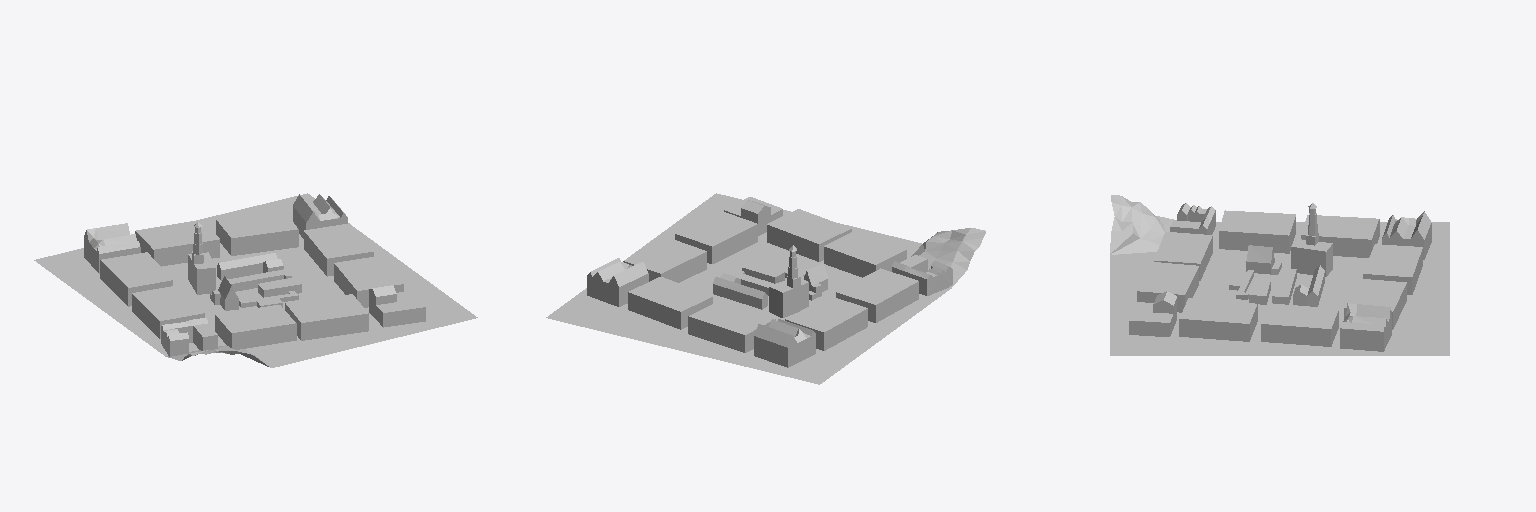
File: best.obj
3 renders of one model, left to right at view 1: azimuth 30°, elevation 25°; view 2: azimuth 150°, elevation 25°; view 3: azimuth 270°, elevation 25°, orthographic.
Parts seen in each view (by area): view 1: poznan-best; view 2: poznan-best; view 3: poznan-best.
Part boxes in pixels (x1,y1,x2,y2): poznan-best: (34,193,477,367); poznan-best: (546,193,985,384); poznan-best: (1110,195,1449,355).
Bounding box in the file's own units: 276 × 63.57 × 297.